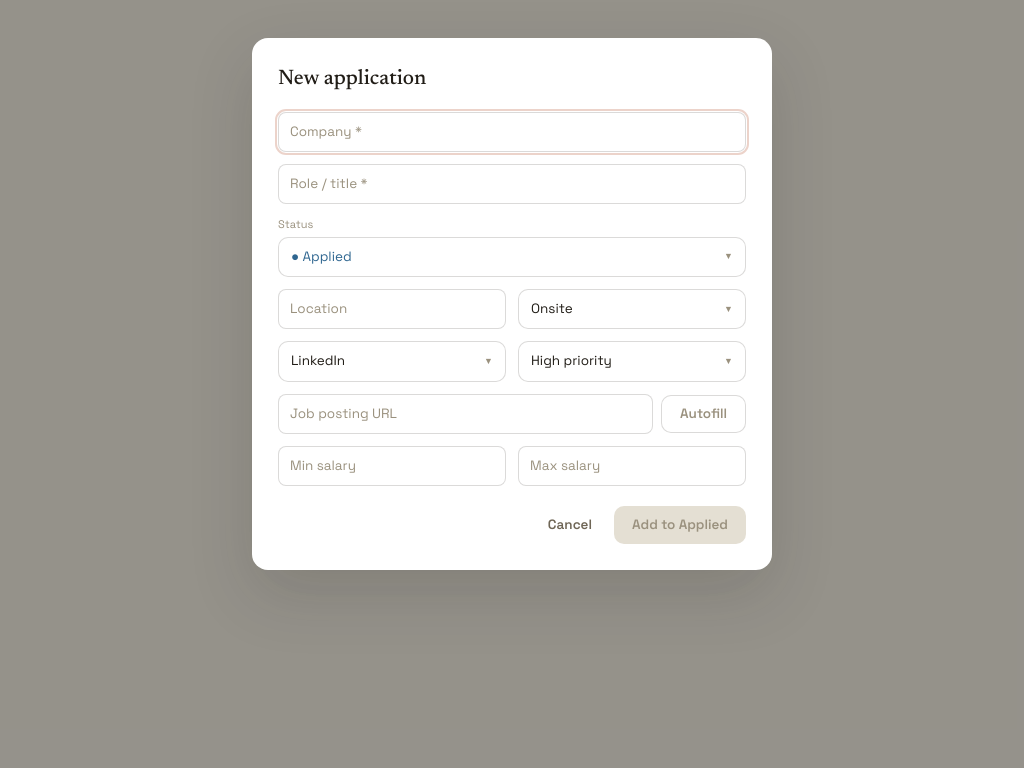
NewApplicationModal › never overwrites what the user already chose
Step 1. Type "Hand-Typed Inc" into the field with placeholder "Company *" → (512, 132), box [278,112,746,152]
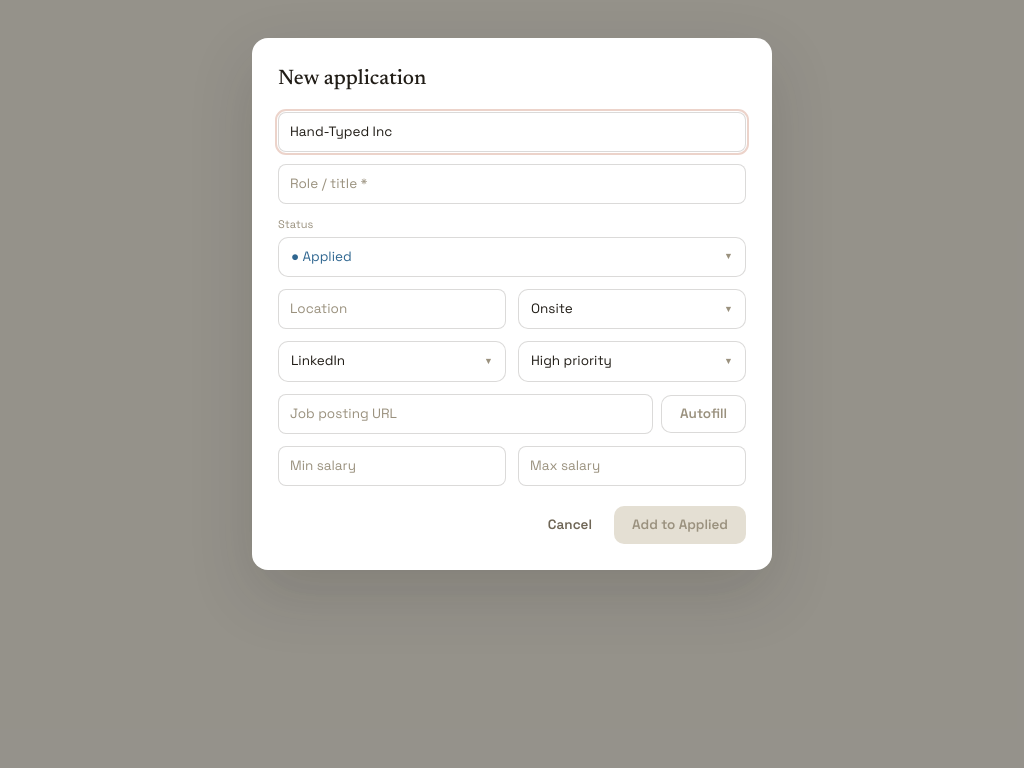
Step 2. Click the button with aria-label "Source" → (392, 362), box [278,341,506,382]
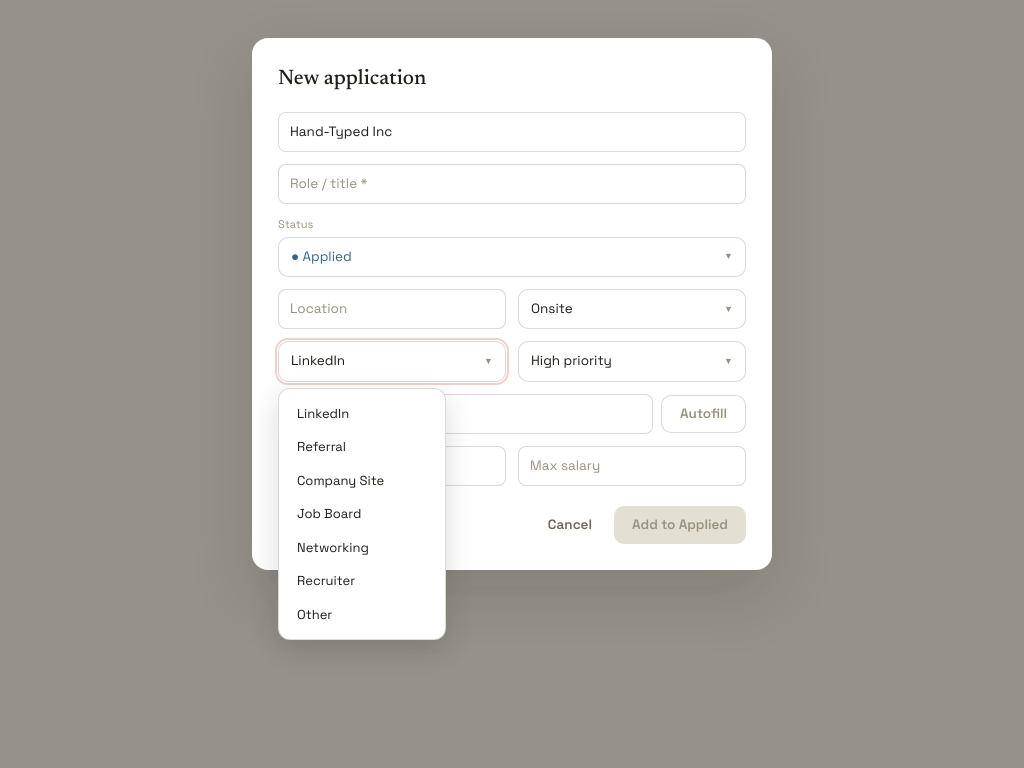
Step 3. Click the menu item "Referral" → (362, 447), box [287,430,437,464]
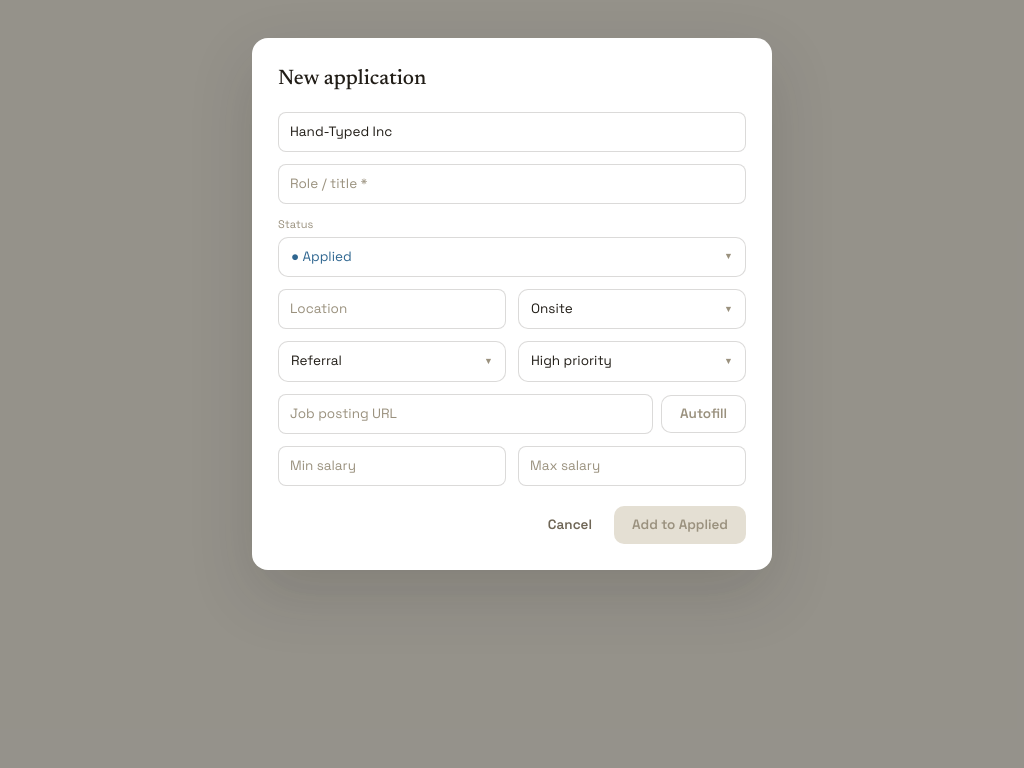
Step 4. Type "https://example.com/j/1" into the field with placeholder "Job posting URL" → (466, 414), box [278,394,653,434]
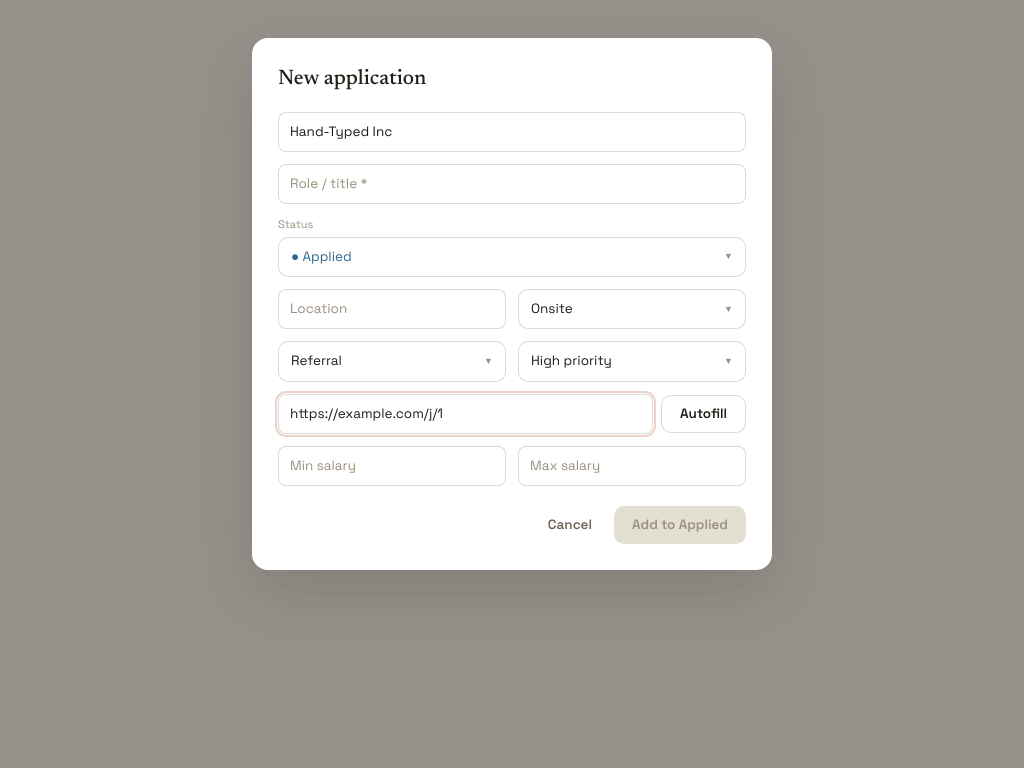
Step 5. Click the button "Autofill" → (704, 414), box [661,395,746,433]
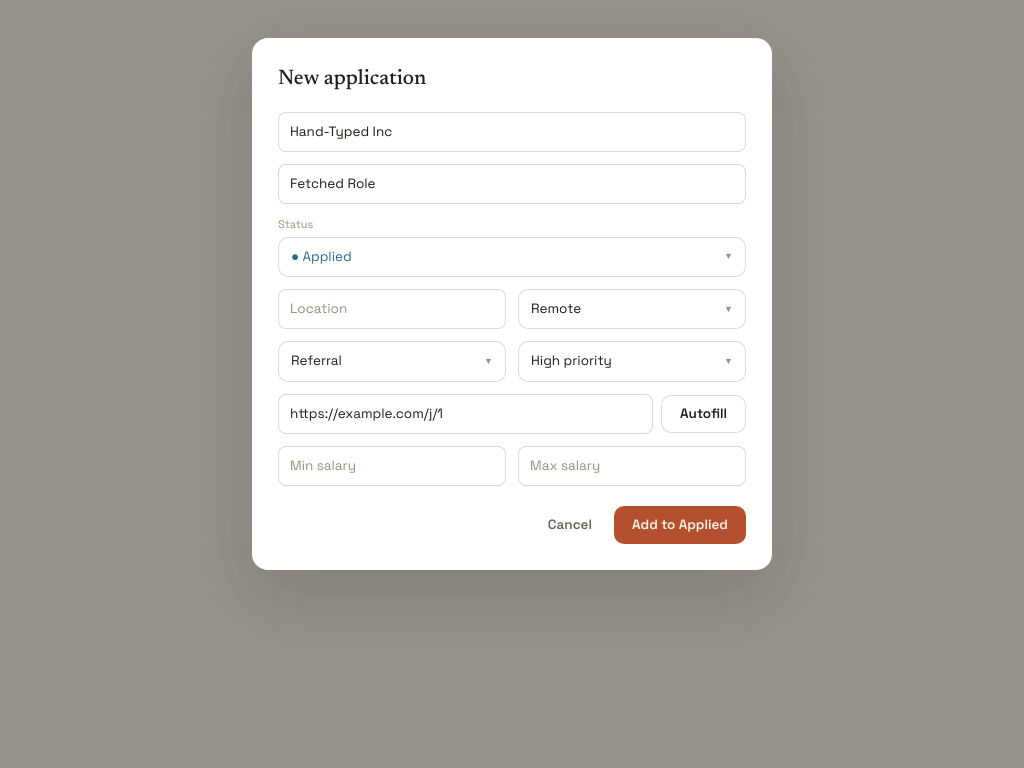
Result: the button with aria-label "Source" shows "Referral" at [278,341,506,382]
Result: the 2nd field with placeholder "Role / title *" holds "Fetched Role" at [278,164,746,204]
